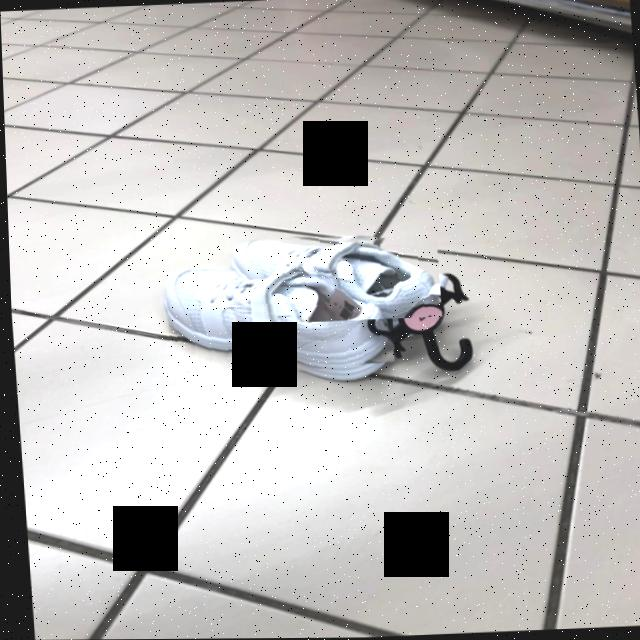shoe: (164, 266, 390, 370), (231, 236, 439, 318)
